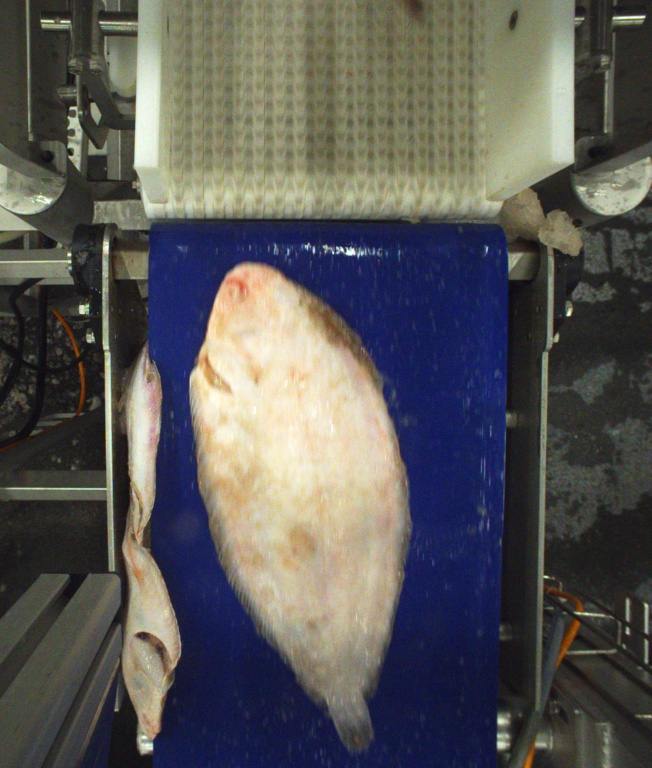SOL: (187, 261, 413, 753)
